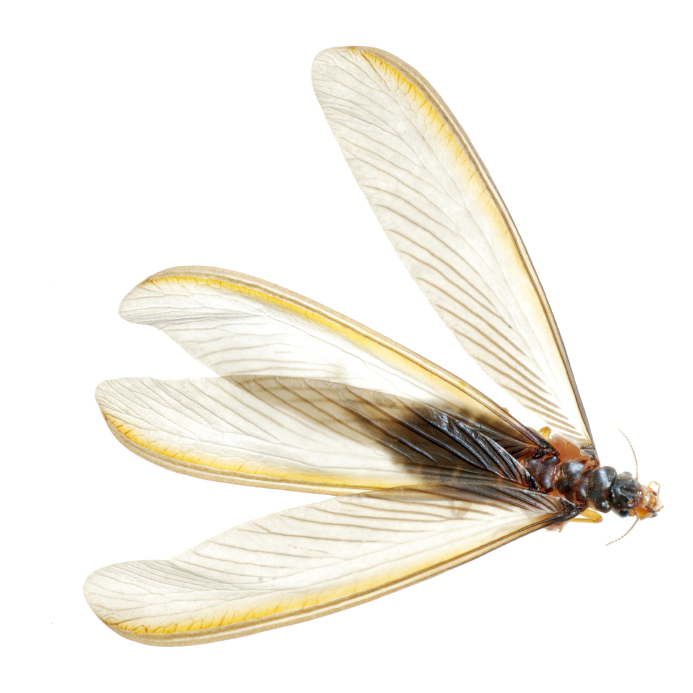flying termite: (28, 12, 670, 679)
